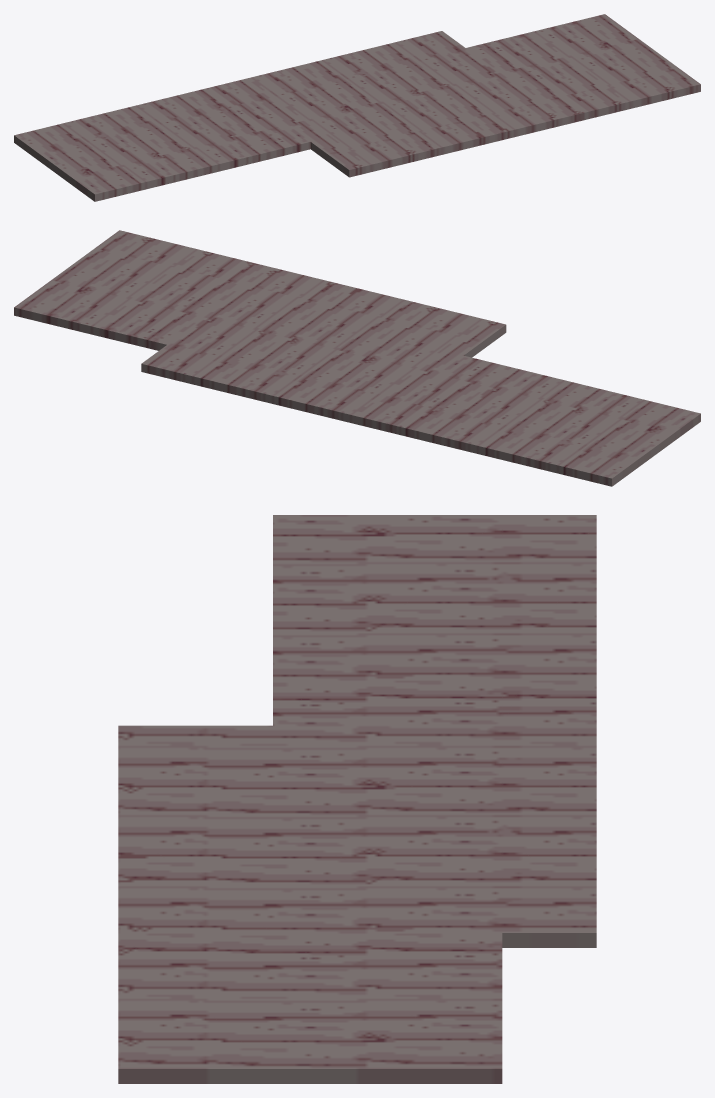
The model's file is Piso2Andar.fbx.
3 renders of one model, top to bottom at view 1: azimuth 30°, elevation 25°; view 2: azimuth 150°, elevation 25°; view 3: azimuth 270°, elevation 25°, orthographic. The views are drawn at different scales.
Visible parts, largest first — view 1: Piso2Andar; view 2: Piso2Andar; view 3: Piso2Andar.
Boxes of the visible parts, x1,y1,x2,y2 form: Piso2Andar: (14, 14, 700, 201); Piso2Andar: (14, 230, 700, 486); Piso2Andar: (118, 515, 596, 1083).
Bounding box in the file's own units: 1570 × 573 × 19.67.
